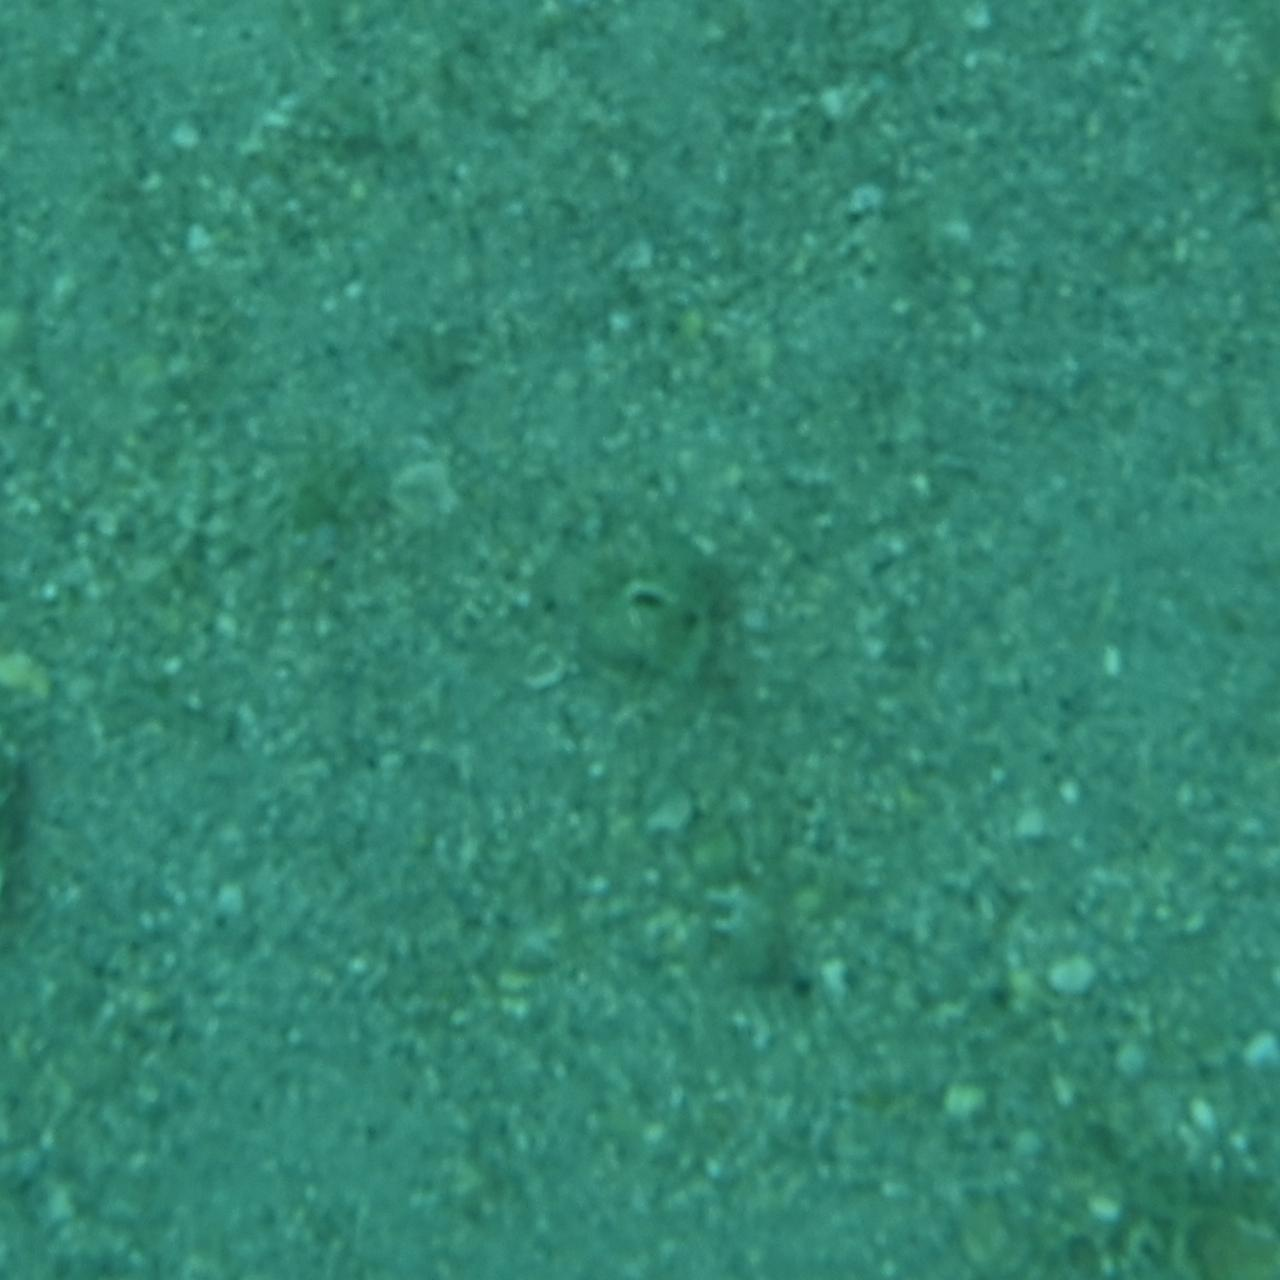Sarcotragus spinosulus: (570, 550, 710, 730)
